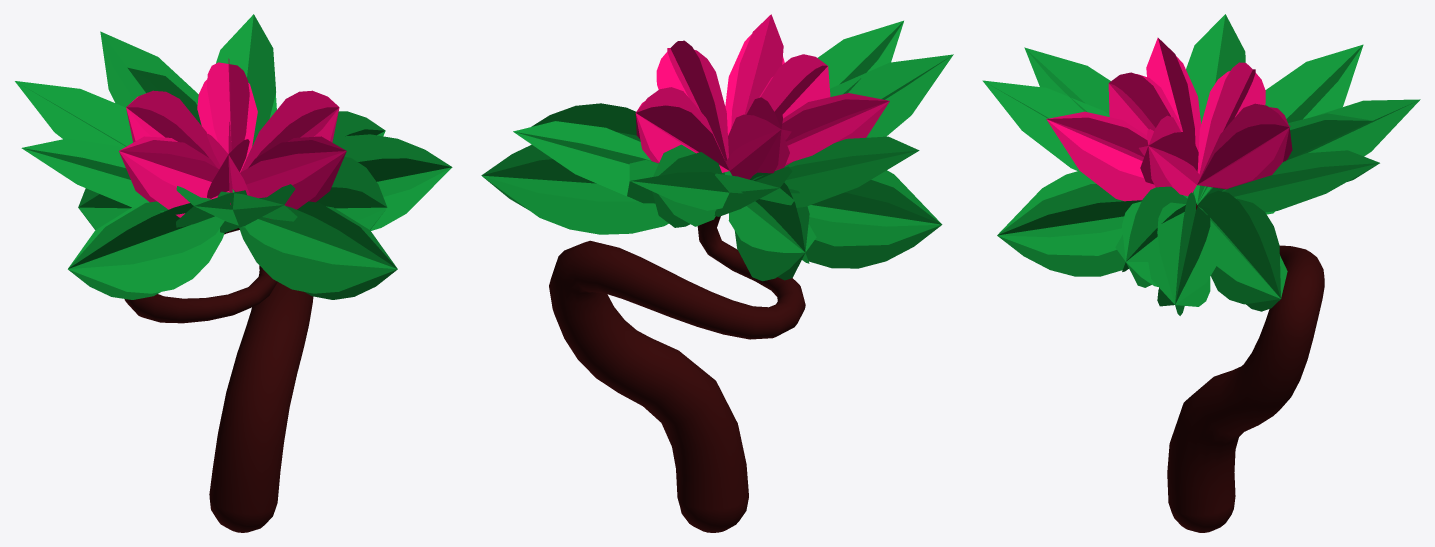
File: plant12.fbx
The picture shows the model from 3 angles, left to right: view 1: azimuth 30°, elevation 25°; view 2: azimuth 150°, elevation 25°; view 3: azimuth 270°, elevation 25°; orthographic projection. The views are drawn at different scales.
Visible parts, largest first — view 1: Leaves, Flower_2, Stem_2; view 2: Leaves, Stem_2, Flower_2; view 3: Leaves, Flower_2, Stem_2.
Boxes of the visible parts, x1=… form: Leaves: x1=15, y1=14, x2=452, y2=299; Flower_2: x1=119, y1=58, x2=346, y2=219; Stem_2: x1=124, y1=228, x2=313, y2=532; Leaves: x1=481, y1=20, x2=953, y2=281; Stem_2: x1=549, y1=216, x2=805, y2=532; Flower_2: x1=635, y1=14, x2=889, y2=179; Leaves: x1=982, y1=14, x2=1420, y2=315; Flower_2: x1=1046, y1=37, x2=1292, y2=201; Stem_2: x1=1167, y1=203, x2=1324, y2=532.
Size of the model in its own units: 1.75 by 1.82 by 1.67.
